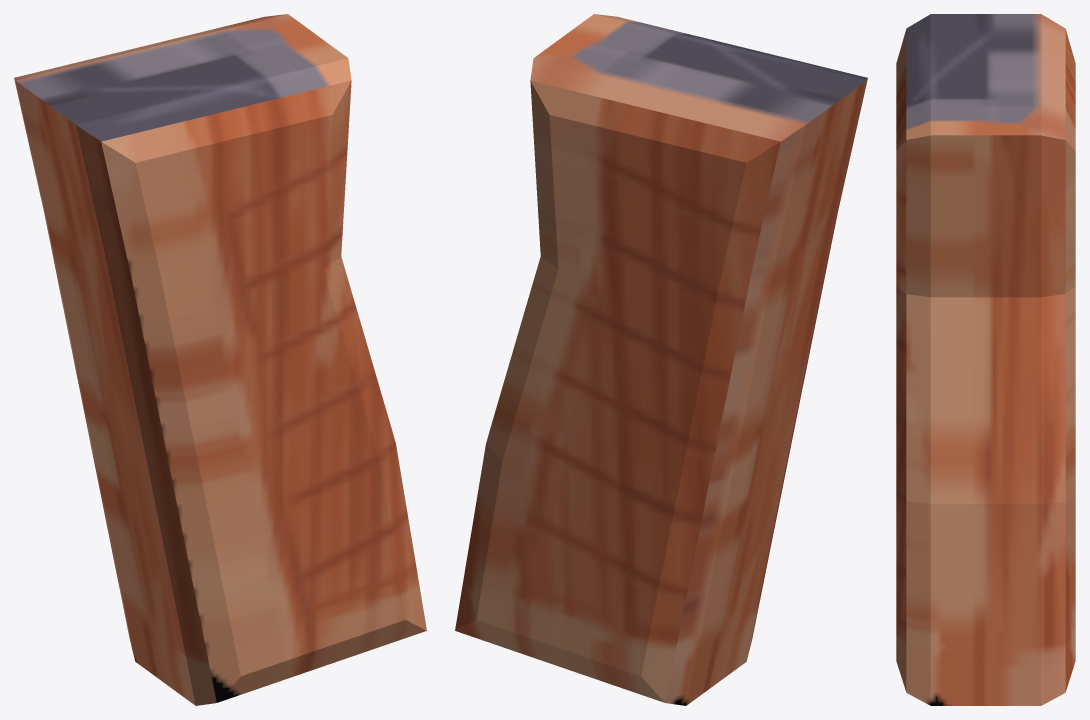
Rendered from rifle_grip.fbx.
3 renders of one model, left to right at view 1: azimuth 30°, elevation 25°; view 2: azimuth 150°, elevation 25°; view 3: azimuth 270°, elevation 25°, orthographic. The views are drawn at different scales.
Parts seen in each view (by area): view 1: rifle_grip; view 2: rifle_grip; view 3: rifle_grip.
Boxes of the visible parts, x1,y1,x2,y2 form: rifle_grip: (14,14,426,705); rifle_grip: (455,14,867,705); rifle_grip: (896,14,1075,705).
Bounding box in the file's own units: 0.24 × 0.4013 × 0.117.
